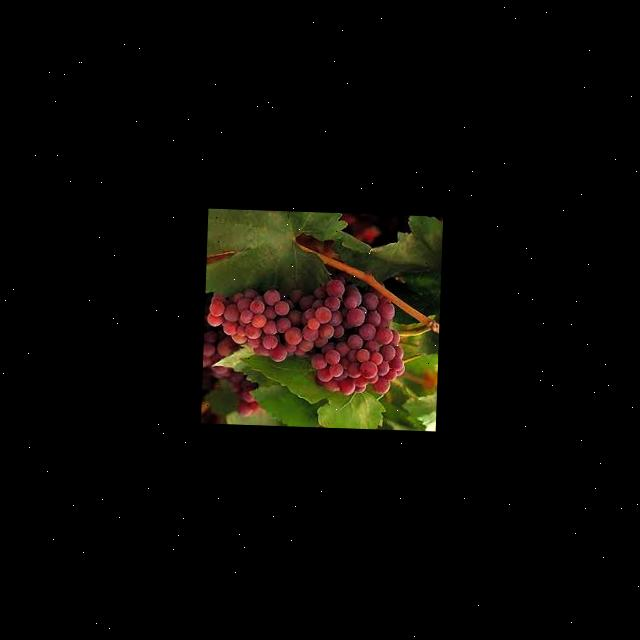grape: (202, 268, 407, 398)
